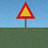sign: (16, 1, 35, 35)
